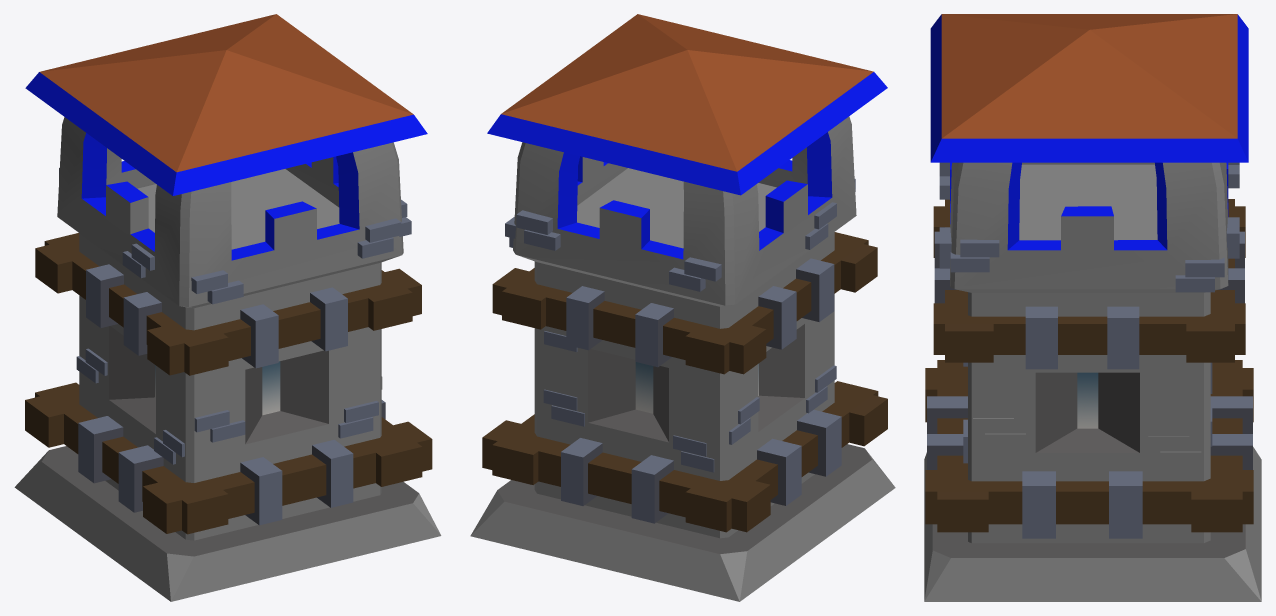
File: Tower8.fbx
3 renders of one model, left to right at view 1: azimuth 30°, elevation 25°; view 2: azimuth 150°, elevation 25°; view 3: azimuth 270°, elevation 25°, orthographic. The views are drawn at different scales.
Visible parts, largest first — view 1: Tower8; view 2: Tower8; view 3: Tower8.
Part boxes in pixels (x1,y1,x2,y2): Tower8: [14, 14, 441, 601]; Tower8: [470, 14, 895, 601]; Tower8: [924, 14, 1261, 601].
Size of the model in its own units: 886 by 1450 by 888.
